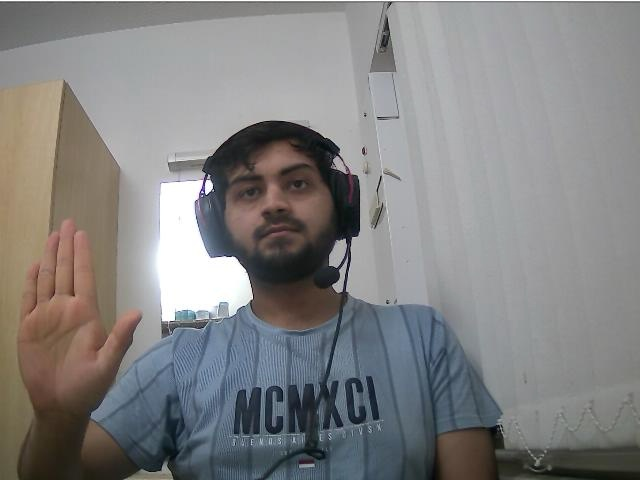up: (18, 218, 103, 412)
